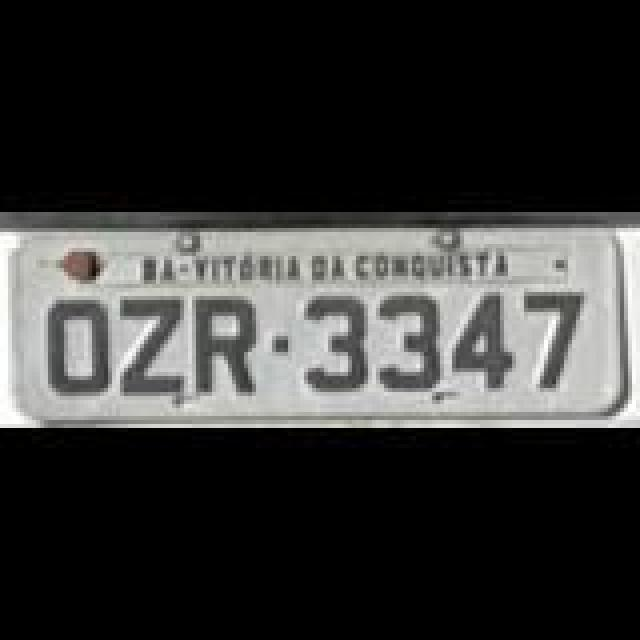3: (300, 292, 372, 396), (374, 292, 442, 396)
4: (448, 284, 520, 396)
7: (524, 282, 588, 390)
O: (42, 290, 118, 398)
R: (186, 290, 262, 398)
Z: (118, 290, 186, 398)
